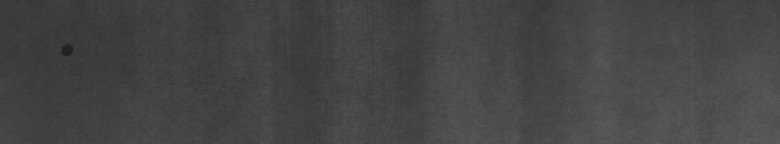fi: (57, 40, 76, 60)
